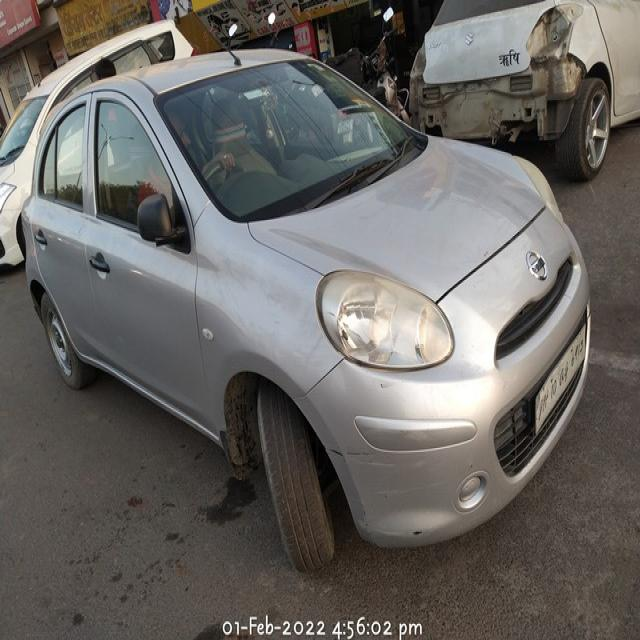damage: (326, 432, 379, 473)
